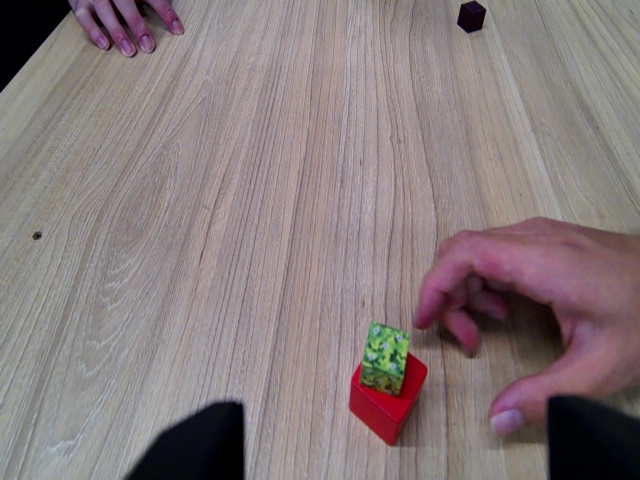grass: (365, 317, 413, 393)
